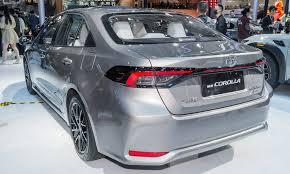toyota: (219, 54, 238, 68)
